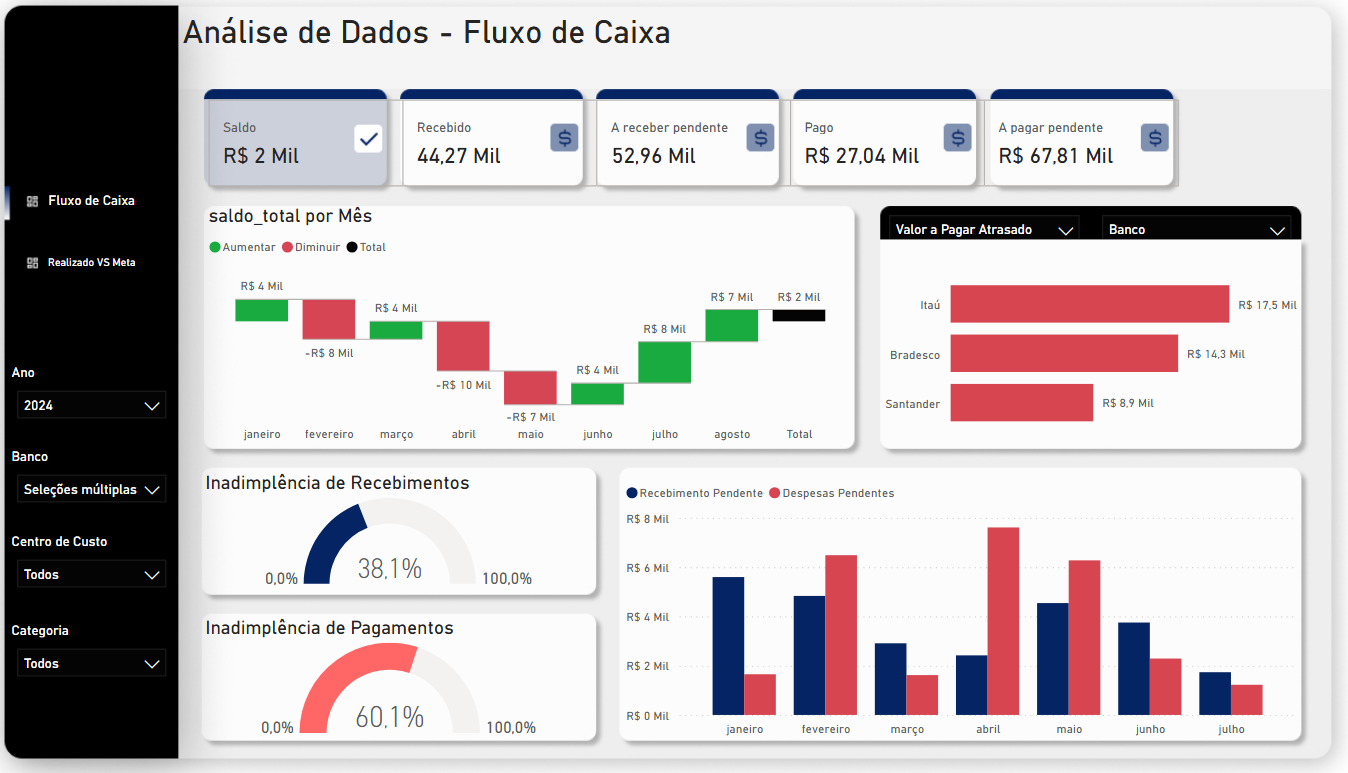

The dashboard page shown, as its layout file describes it:
{"tool":"powerbi","page":{"name":"Fluxo de Caixa","canvas":[1280,720],"ordinal":0},"visuals":[{"type":"clusteredColumnChart","fields":{"Y":["Medida.Valor_nao_pago_contas_a_receber_Pendente","Medida.Valor_nao_pago_contas_a_pagar_Pendente"],"Category":["calendario.Date.Variation.Hierarquia de datas.Mês"]},"box":[583.8,440,612.5,245],"z":0},{"type":"slicer","title":"Ano","fields":{"Values":["calendario.Date.Variation.Hierarquia de datas.Ano"]},"box":[32.5,345,153.8,51.2],"z":1000},{"type":"gauge","title":"Inadimplência de Recebimentos ","fields":{"Y":["Medida.Indicador_inadiplencia_contas_a_receber"]},"box":[206.2,440,356.2,111.2],"z":2000},{"type":"gauge","title":"Inadimplência de Pagamentos","fields":{"Y":["Medida.Indicador_Inadiplência_Contas_a_Pagar"]},"box":[206.2,570,356.2,115],"z":3000},{"type":"waterfallChart","fields":{"Y":["Medida.saldo_total"],"Category":["calendario.Date.Variation.Hierarquia de datas.Mês"]},"box":[208.8,200,588.8,220],"z":4000},{"type":"clusteredBarChart","fields":{"Y":["Medida.Valor_nao_pago_contas_a_pagar_Atrasado"],"Category":["d_bancos.Banco"]},"box":[815,242.5,381.2,177.5],"z":5000},{"type":"slicer","fields":{"Values":["Parâmetro de Medidas.Parâmetro de Medidas"]},"box":[815,200,191.2,31.2],"z":6000},{"type":"slicer","fields":{"Values":["Parâmetro Dimensão.Parâmetro Dimensão"]},"box":[1006.2,200,190,31.2],"z":7000},{"type":"cardVisual","fields":{"Data":["Medida.saldo_total","Medida.Valor_pago_contas_a_receber","Medida.valores_não_pagos_conta_a_receber","Medida.Valor_pago_contas_a_pagar","Medida.valores_não_pagos_conta_a_pagar"]},"box":[208.8,101.2,882.5,88.8],"z":8000},{"type":"slicer","title":"Banco","fields":{"Values":["d_bancos.Banco"]},"box":[32.5,420,153.8,51.2],"z":9000},{"type":"slicer","title":"Centro de Custo","fields":{"Values":["d_centro_custo.Centro de Custo"]},"box":[32.5,496.2,153.8,51.2],"z":10000},{"type":"slicer","title":"Categoria","fields":{"Values":["d_categoria.Categoria"]},"box":[32.5,576.2,153.8,51.2],"z":11000},{"type":"textbox","box":[186.2,23.8,1037.5,77.5],"z":12000},{"type":"actionButton","box":[32.5,231.2,153.8,40],"z":13000},{"type":"actionButton","box":[32.5,176.2,153.8,40],"z":14000}]}

Visuals, with their boxes on the page's 1280x720 design canvas (x1, y1, x2, y2). These are canvas units, not pixel positions in the 1348x773 screenshot, which may show the page scaled, cropped or inside an application window:
clusteredColumnChart - Medida.Valor_nao_pago_contas_a_receber_Pendente x Medida.Valor_nao_pago_contas_a_pagar_Pendente: x1=584, y1=440, x2=1196, y2=685
"Ano" slicer: x1=32, y1=345, x2=186, y2=396
"Inadimplência de Recebimentos " gauge: x1=206, y1=440, x2=562, y2=551
"Inadimplência de Pagamentos" gauge: x1=206, y1=570, x2=562, y2=685
waterfallChart - Medida.saldo_total x calendario.Date.Variation.Hierarquia de datas.Mês: x1=209, y1=200, x2=798, y2=420
clusteredBarChart - Medida.Valor_nao_pago_contas_a_pagar_Atrasado x d_bancos.Banco: x1=815, y1=242, x2=1196, y2=420
slicer - Parâmetro de Medidas.Parâmetro de Medidas: x1=815, y1=200, x2=1006, y2=231
slicer - Parâmetro Dimensão.Parâmetro Dimensão: x1=1006, y1=200, x2=1196, y2=231
cardVisual - Medida.saldo_total x Medida.Valor_pago_contas_a_receber: x1=209, y1=101, x2=1091, y2=190
"Banco" slicer: x1=32, y1=420, x2=186, y2=471
"Centro de Custo" slicer: x1=32, y1=496, x2=186, y2=547
"Categoria" slicer: x1=32, y1=576, x2=186, y2=627
textbox: x1=186, y1=24, x2=1224, y2=101
actionButton: x1=32, y1=231, x2=186, y2=271
actionButton: x1=32, y1=176, x2=186, y2=216
